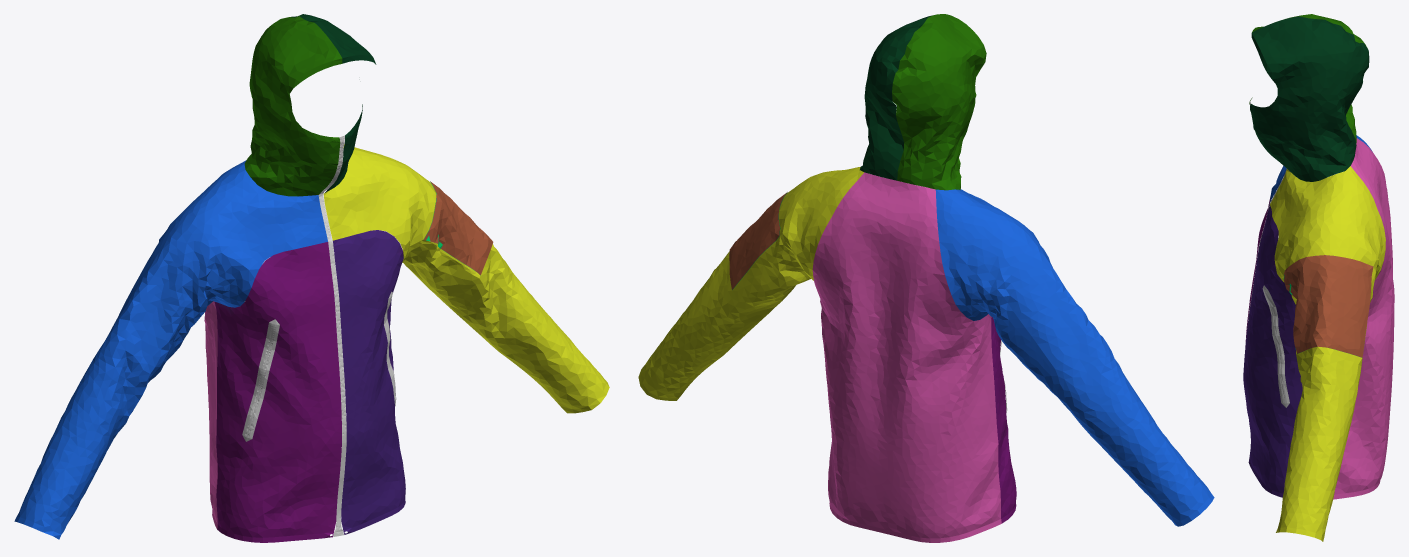
The model's file is Jacket.glb.
3 views of the same model, side by side, from view 1: azimuth 30°, elevation 25°; view 2: azimuth 150°, elevation 25°; view 3: azimuth 270°, elevation 25° (orthographic). The views are drawn at different scales.
Visible parts, largest first — view 1: geometry_0_Color_(0.4117647409439087, 0.6196078658103943, 0.; view 2: geometry_0_Color_(0.4117647409439087, 0.6196078658103943, 0.; view 3: geometry_0_Color_(0.4117647409439087, 0.6196078658103943, 0..
Boxes of the visible parts, x1=… form: geometry_0_Color_(0.4117647409439087, 0.6196078658103943, 0.: x1=14, y1=14, x2=609, y2=542; geometry_0_Color_(0.4117647409439087, 0.6196078658103943, 0.: x1=638, y1=14, x2=1214, y2=542; geometry_0_Color_(0.4117647409439087, 0.6196078658103943, 0.: x1=1243, y1=14, x2=1394, y2=541.
Size of the model in its own units: 2 by 1.63 by 0.4954.
